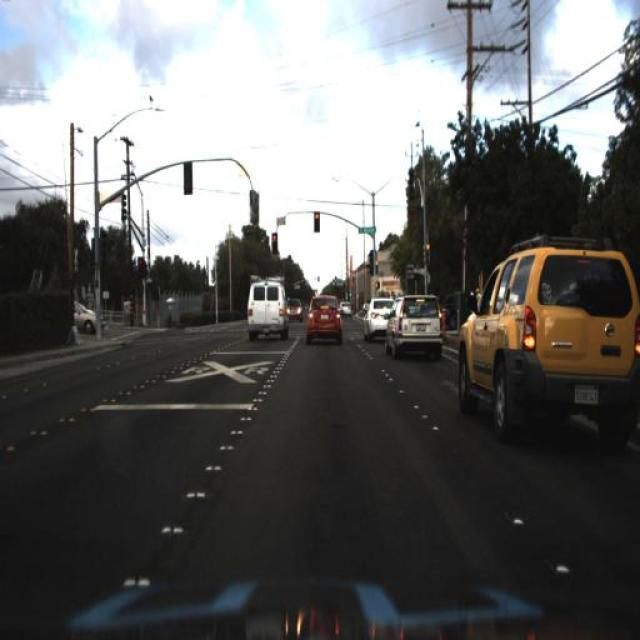car: (452, 214, 638, 462), (384, 288, 447, 367), (298, 292, 350, 348), (242, 280, 288, 342), (69, 287, 110, 344), (69, 296, 105, 336), (359, 288, 385, 342), (284, 297, 304, 331), (286, 298, 300, 323)
trafficLight-Green: (270, 229, 280, 253)
trafficLight-RedLeft: (418, 237, 434, 275), (419, 235, 433, 264), (313, 204, 322, 236), (372, 254, 382, 281)
trafficLight-Yellow: (132, 252, 148, 288)
